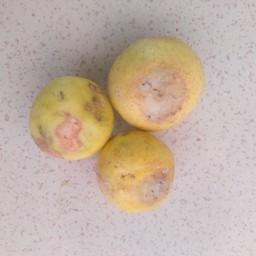Bad_lime: (106, 35, 203, 129), (96, 123, 174, 209), (29, 76, 110, 158)
